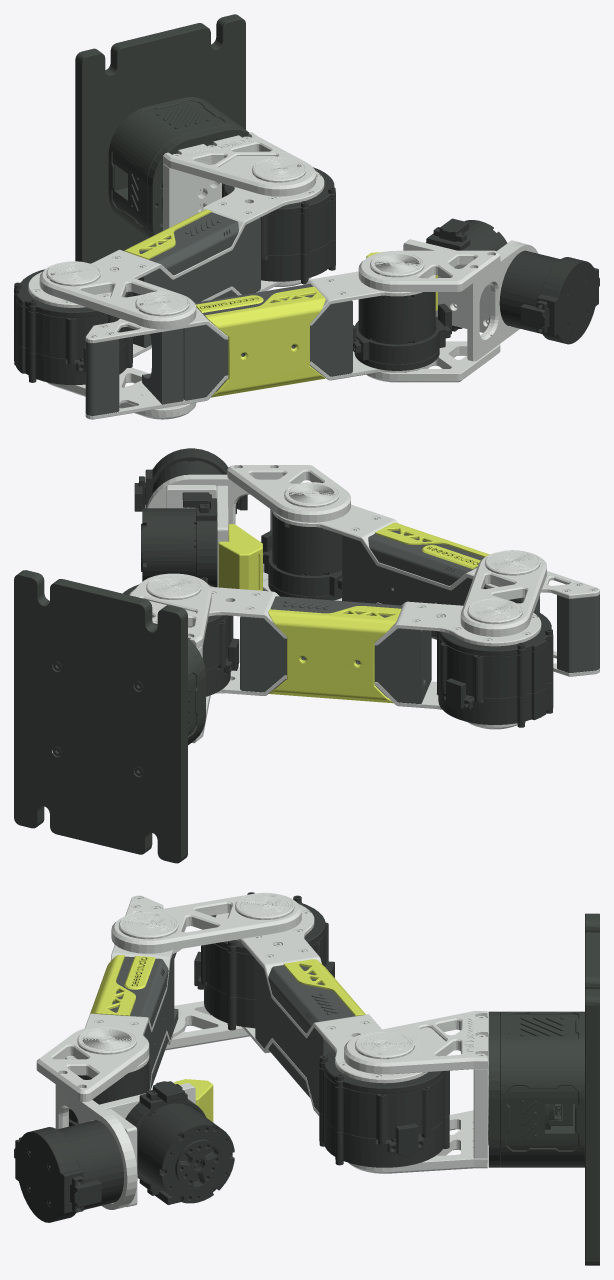
The model's file is rebot_rs.glb.
The picture shows the model from 3 angles, top to bottom: view 1: azimuth 30°, elevation 25°; view 2: azimuth 150°, elevation 25°; view 3: azimuth 270°, elevation 25°; orthographic projection. The views are drawn at different scales.
Parts seen in each view (by area): view 1: rebot_rs_4, rebot_rs_1, rebot_rs_2, rebot_rs_3, rebot_rs_5; view 2: rebot_rs_2, rebot_rs_4, rebot_rs_1, rebot_rs_3, rebot_rs_5; view 3: rebot_rs_4, rebot_rs_1, rebot_rs_2, rebot_rs_3, rebot_rs_5.
Part boxes in pixels (<box>): rebot_rs_4: <box>28,132,538,419</box>; rebot_rs_1: <box>14,167,599,384</box>; rebot_rs_2: <box>75,14,248,263</box>; rebot_rs_3: <box>85,212,352,415</box>; rebot_rs_5: <box>124,209,437,397</box>; rebot_rs_2: <box>14,570,205,863</box>; rebot_rs_4: <box>129,465,599,743</box>; rebot_rs_1: <box>123,448,553,727</box>; rebot_rs_3: <box>240,530,599,703</box>; rebot_rs_5: <box>218,522,489,703</box>; rebot_rs_4: <box>36,892,488,1209</box>; rebot_rs_1: <box>14,892,449,1222</box>; rebot_rs_2: <box>488,913,599,1265</box>; rebot_rs_3: <box>109,952,354,1112</box>; rebot_rs_5: <box>90,955,365,1122</box>.
Size of the model in its own units: 418 by 200 by 395.
